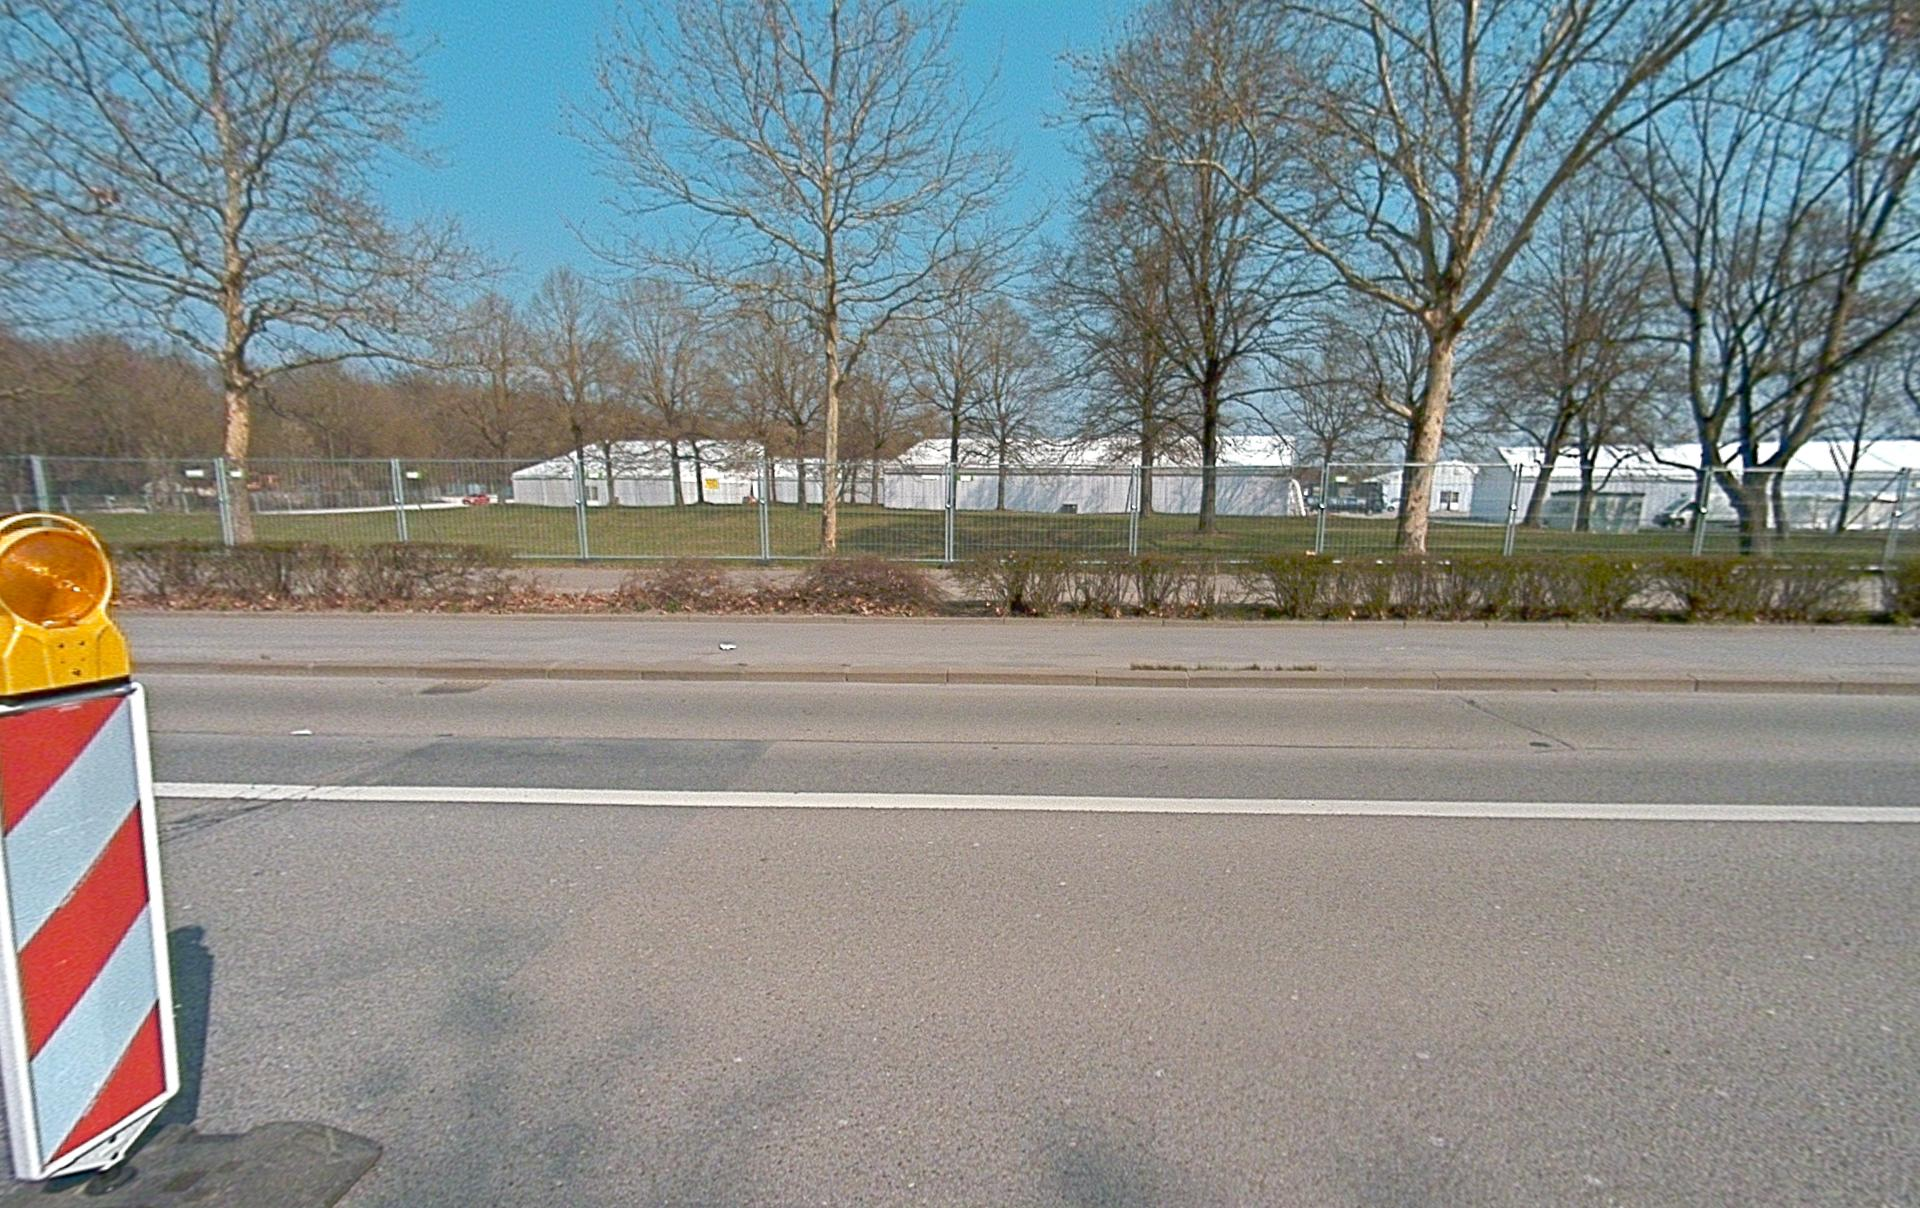car: (441, 483, 499, 505)
